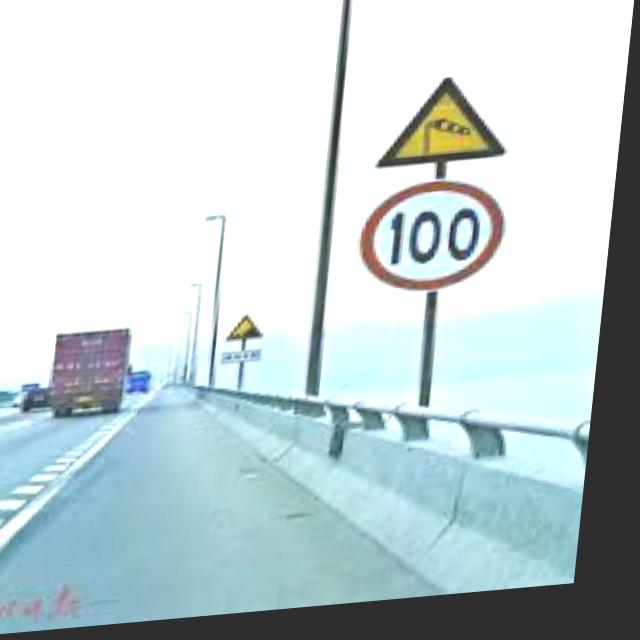limit100: (354, 176, 521, 313)
